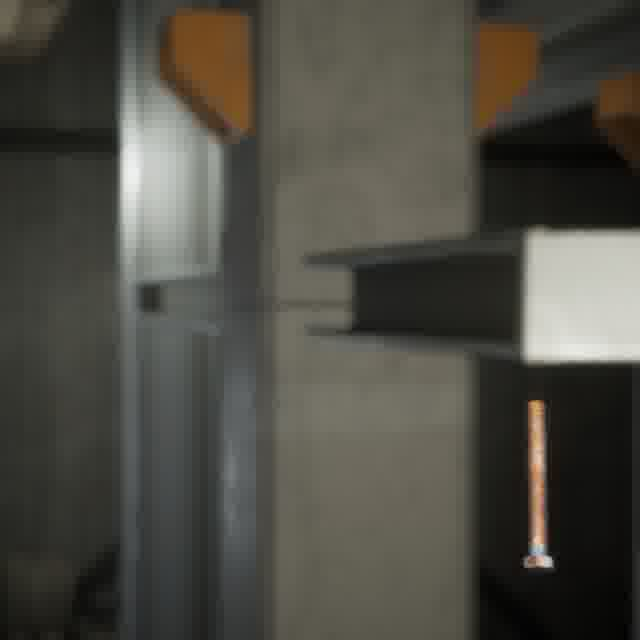bolt: (518, 396, 558, 576)
